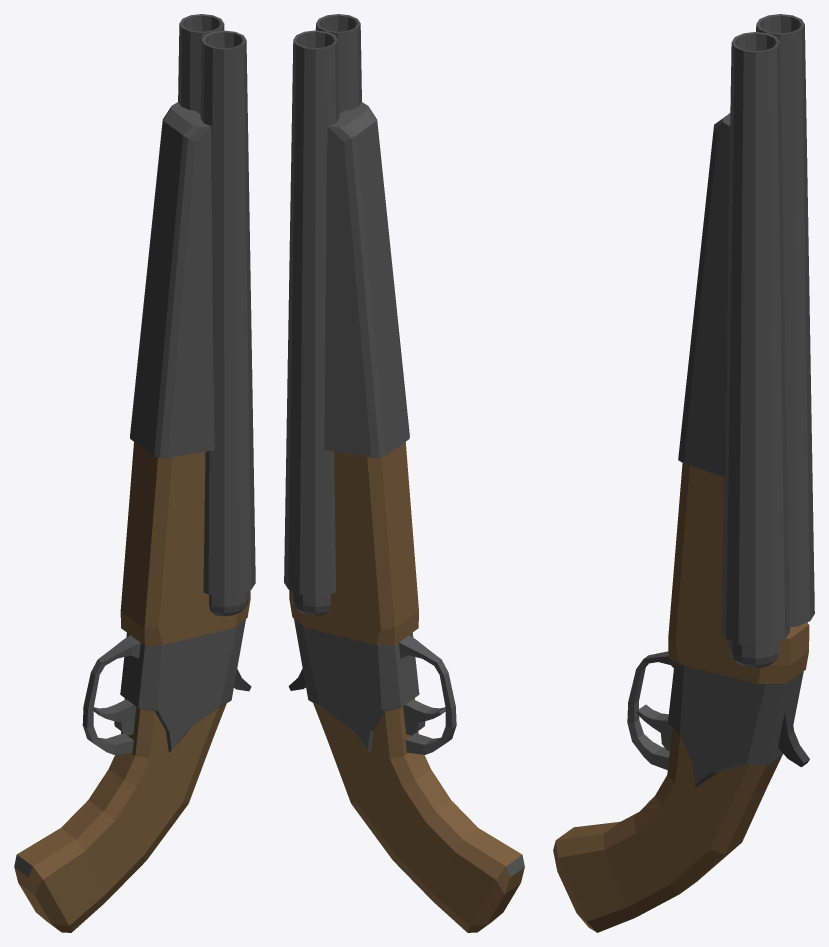
File: Shotgun.glb
3 renders of one model, left to right at view 1: azimuth 30°, elevation 25°; view 2: azimuth 150°, elevation 25°; view 3: azimuth 330°, elevation 25°, orthographic. The views are drawn at different scales.
Visible parts, largest first — view 1: Shotgun_SawedOff; view 2: Shotgun_SawedOff; view 3: Shotgun_SawedOff.
Boxes of the visible parts, left/top/right/bottom form: Shotgun_SawedOff: left=14, top=14, right=255, bottom=932; Shotgun_SawedOff: left=284, top=14, right=524, bottom=932; Shotgun_SawedOff: left=553, top=14, right=814, bottom=932.
Bounding box in the file's own units: 0.1436 × 0.5191 × 0.0595.
Materials: 1 (1 with a texture image).
